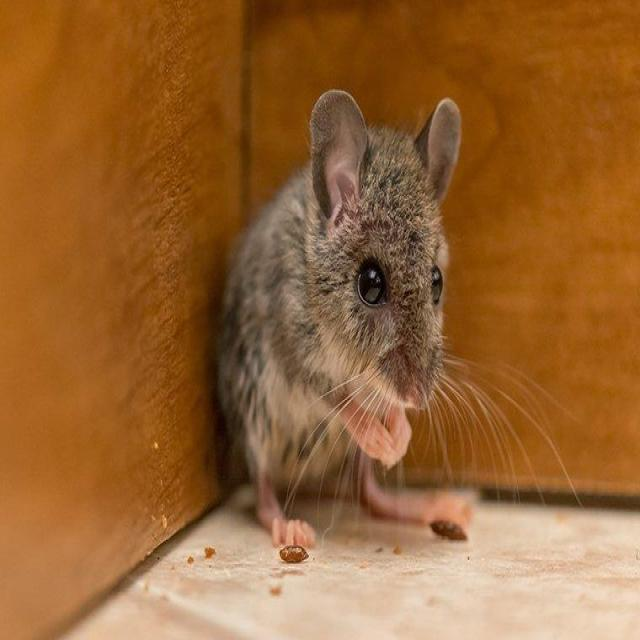rat: (202, 66, 500, 554)
